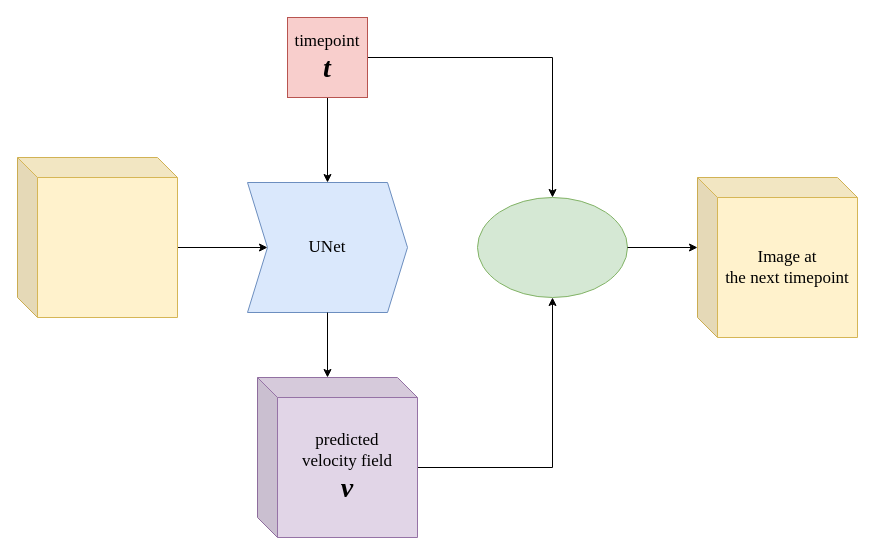
This 875x555 diagram has some shape labels left out. The box of each missing label's shape, as (x1, y1, x2, y2) in pixels:
Euler method: (476, 196, 628, 298)
Image at the timepoint t: (16, 156, 178, 318)
